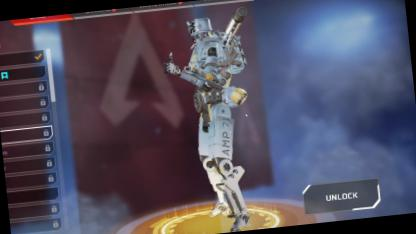Target: (184, 14, 242, 191)
